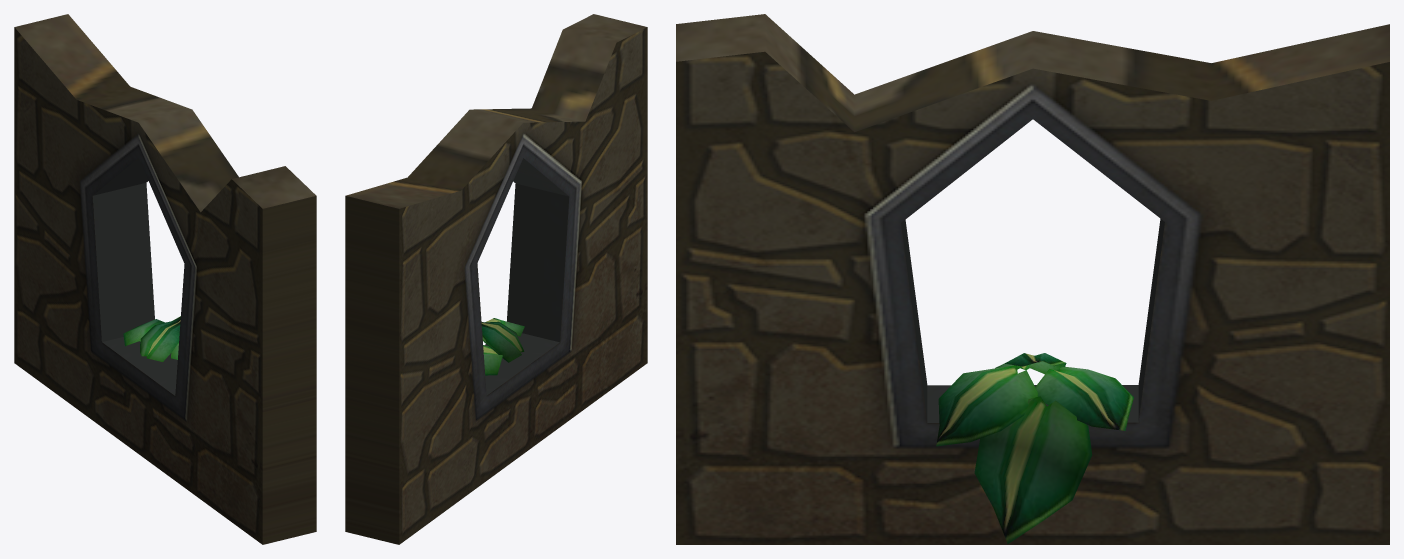
Rendered from pared_ventana_hojas.FBX.
The picture shows the model from 3 angles, left to right: view 1: azimuth 30°, elevation 25°; view 2: azimuth 150°, elevation 25°; view 3: azimuth 270°, elevation 25°; orthographic projection. The views are drawn at different scales.
Parts seen in each view (by area): view 1: Box041; view 2: Box041; view 3: Box041.
Boxes of the visible parts, x1,y1,x2,y2 form: Box041: (14,14,316,544); Box041: (345,14,647,544); Box041: (676,14,1389,544).
Bounding box in the file's own units: 372 × 1220 × 1600.
Materials: 2 (2 with a texture image).
